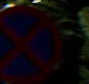No Stopping: (1, 5, 72, 83)
